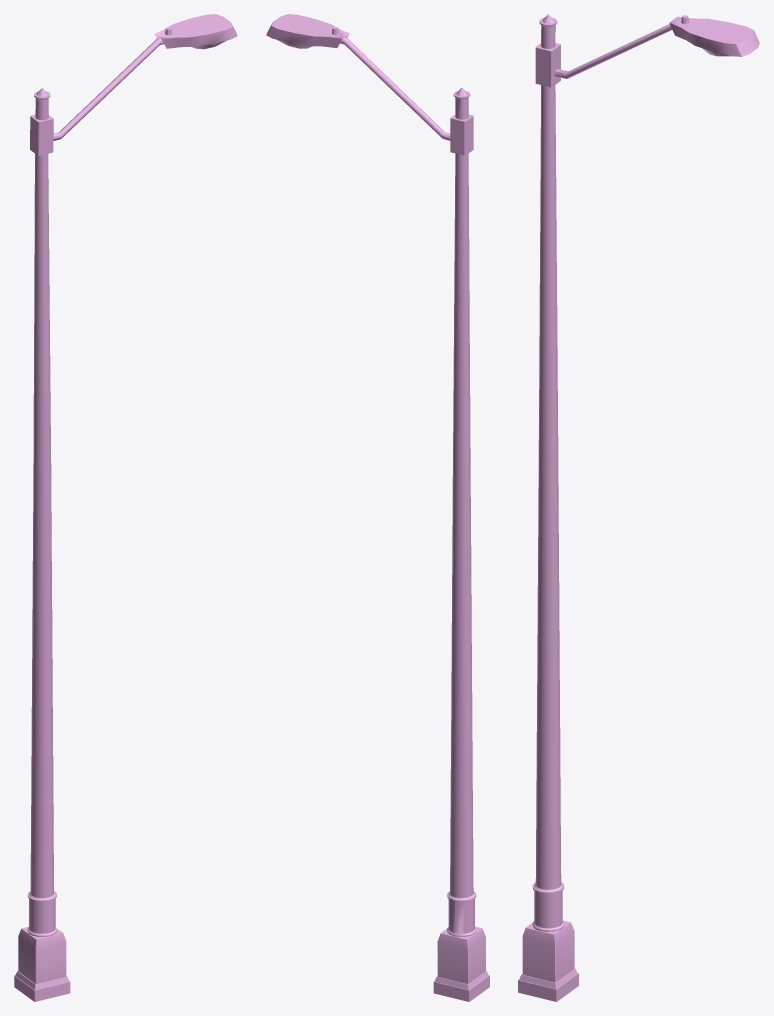
The model's file is lamppost03a_off.fbx.
The picture shows the model from 3 angles, left to right: view 1: azimuth 30°, elevation 25°; view 2: azimuth 150°, elevation 25°; view 3: azimuth 330°, elevation 25°; orthographic projection. The views are drawn at different scales.
Visible parts, largest first — view 1: lamp_off1; view 2: lamp_off1; view 3: lamp_off1.
Boxes of the visible parts, x1,y1,x2,y2 form: lamp_off1: [14, 14, 237, 1001]; lamp_off1: [266, 14, 489, 1001]; lamp_off1: [518, 14, 759, 1001].
Size of the model in its own units: 8096 by 34599 by 1400.
